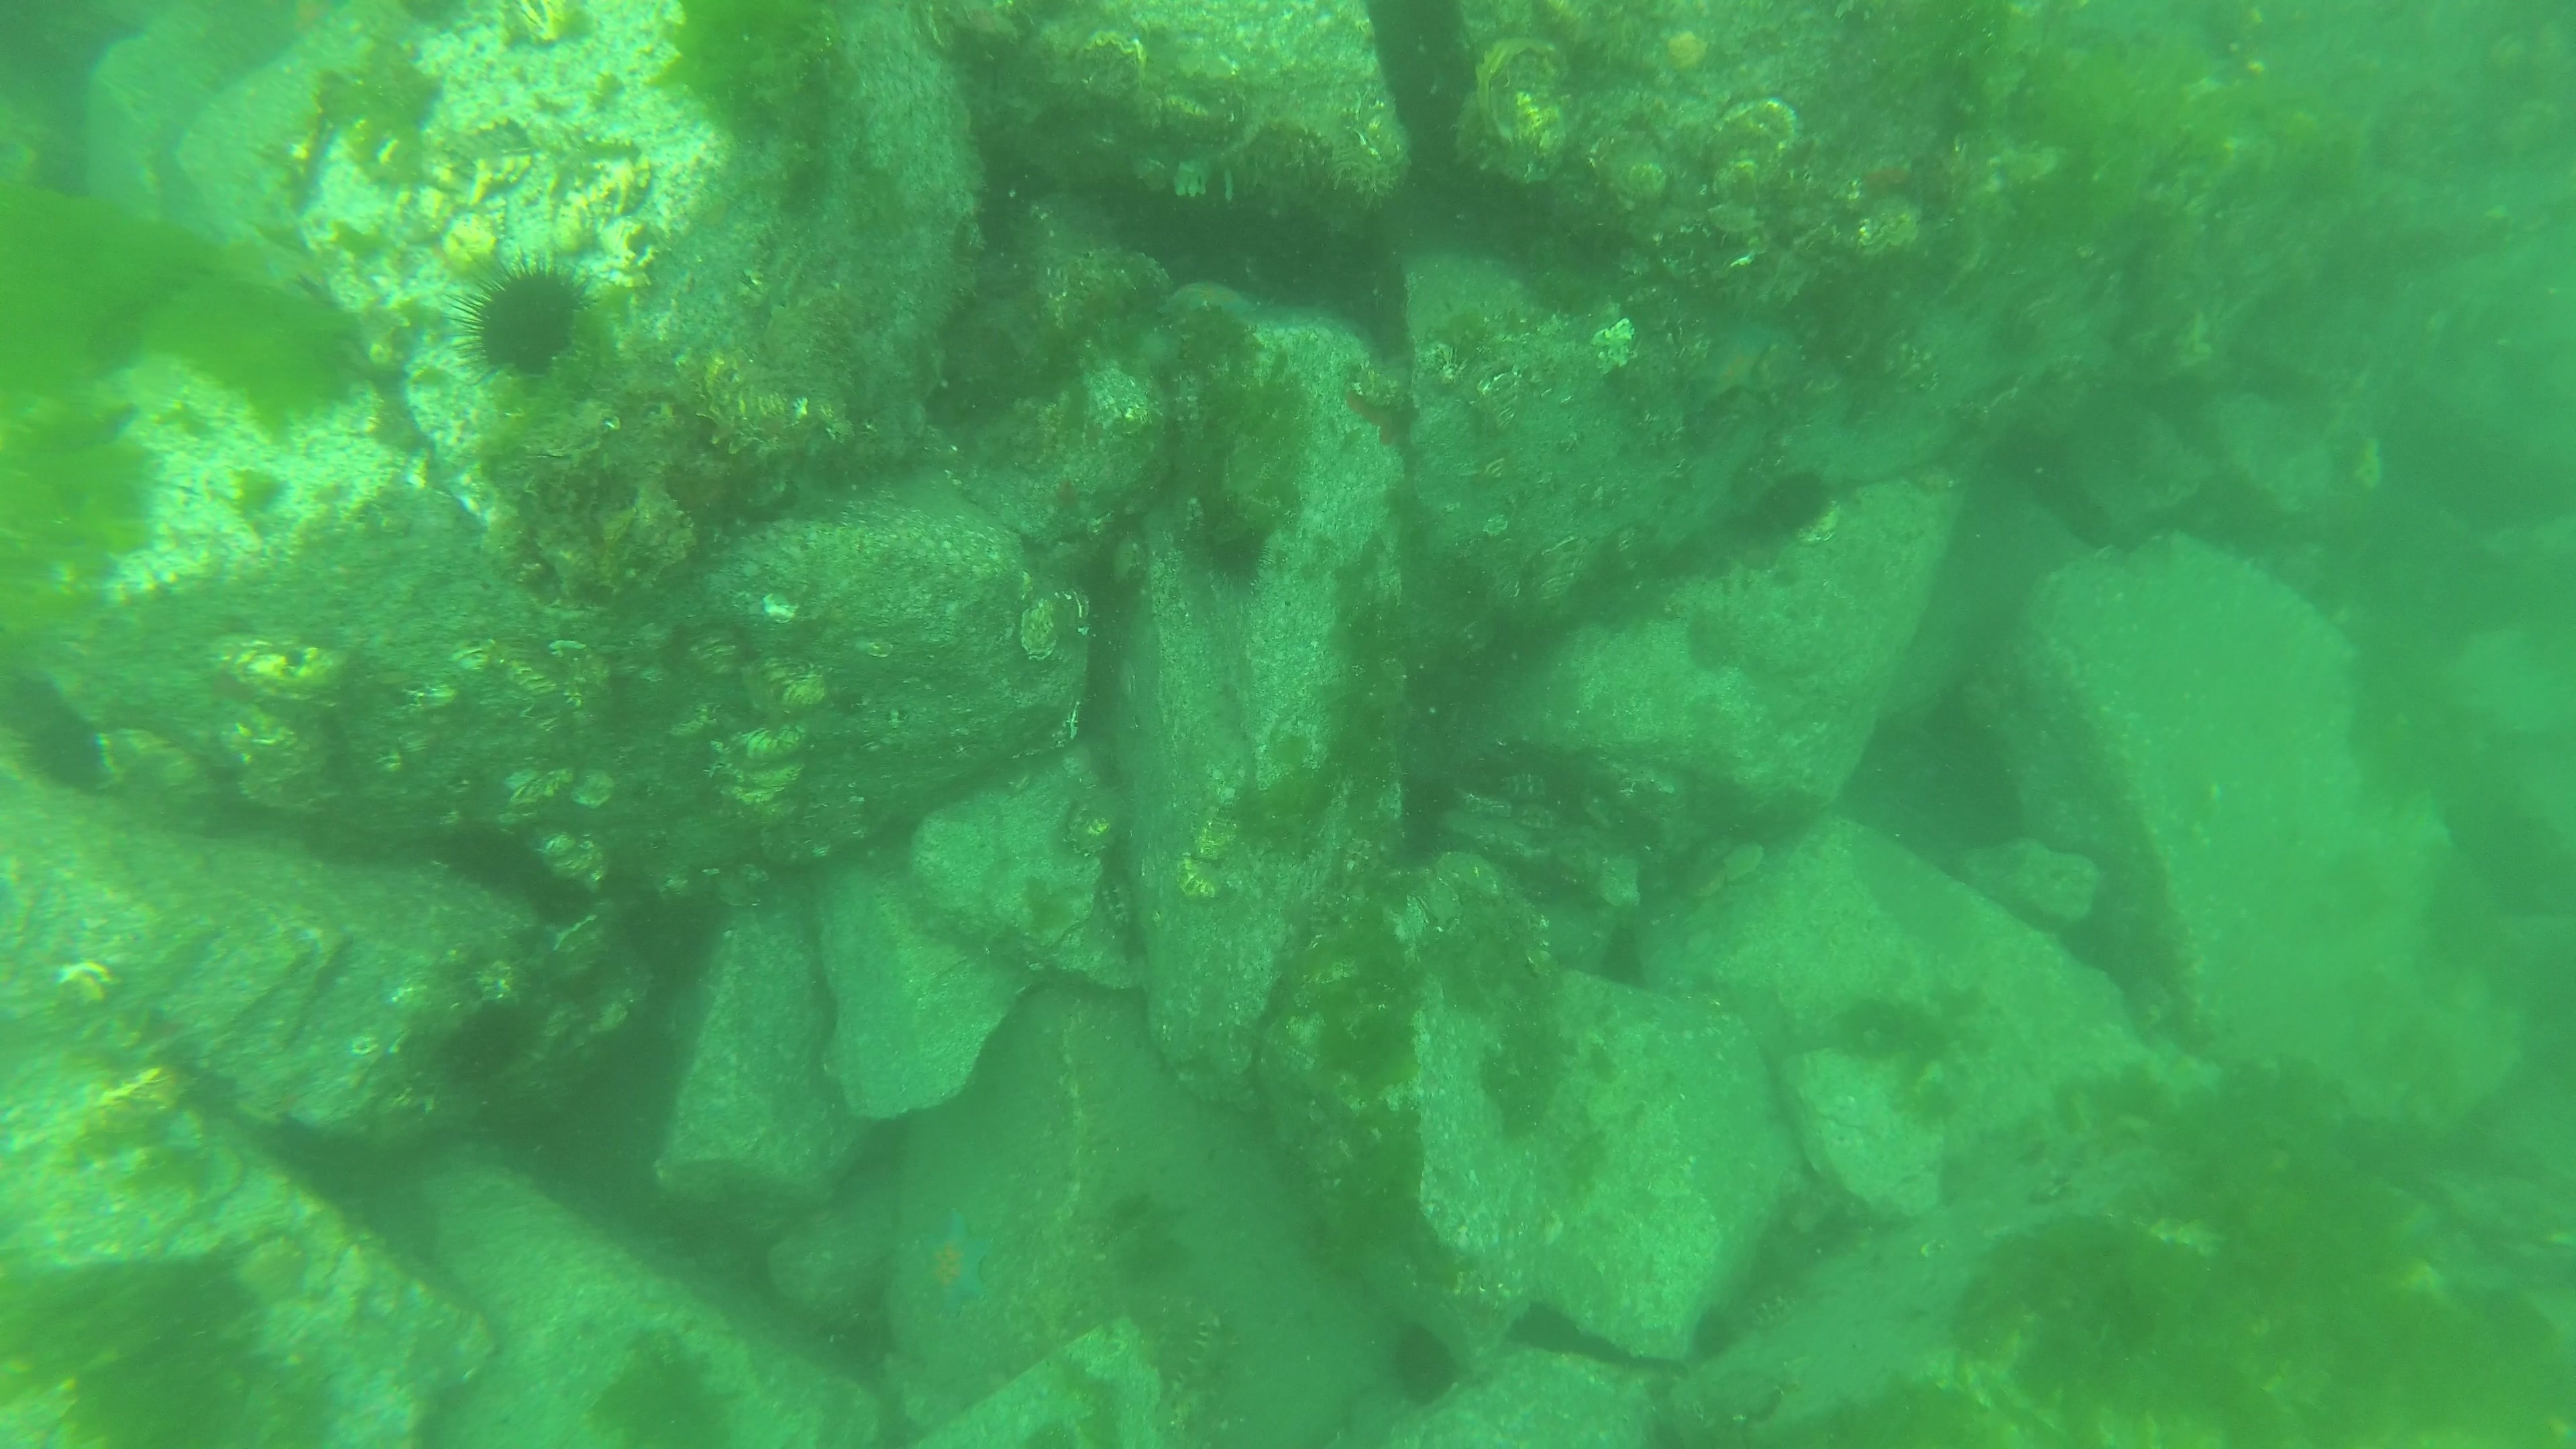echinus: (449, 248, 609, 395), (437, 996, 547, 1090), (1380, 1313, 1461, 1414), (1752, 469, 1844, 536)
holothurian: (1161, 1307, 1235, 1421)
starfish: (911, 1207, 1003, 1323)
